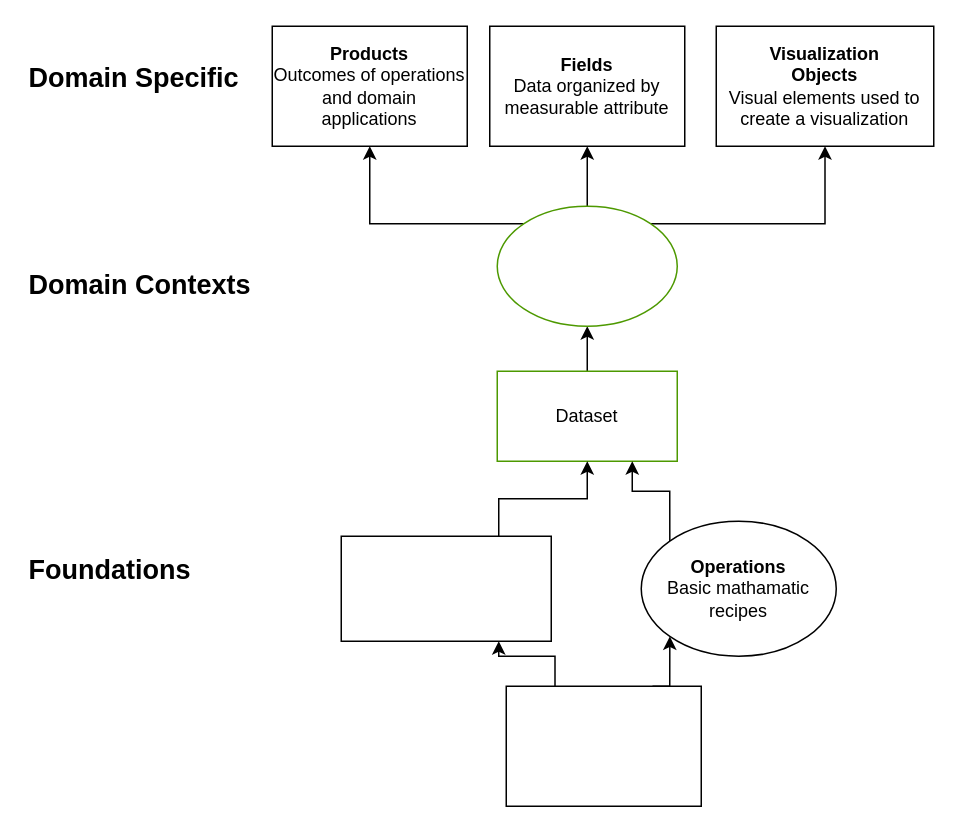
Some shapes in this 960 by 833 pixel diagram are drawn without their labels. Each missing label, with the centre of its shape:
Analysis Schema: (586,265)
Data Objects Physical data containers, defined by shape and edges: (445,588)
Quantities Custom data types used to define various yt objects: (603,745)
